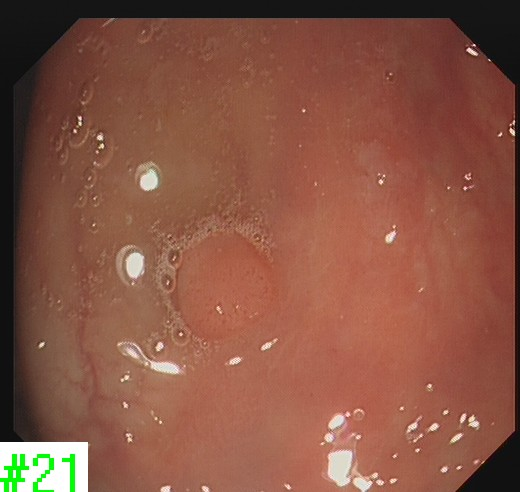adenoma: (167, 226, 280, 344)
